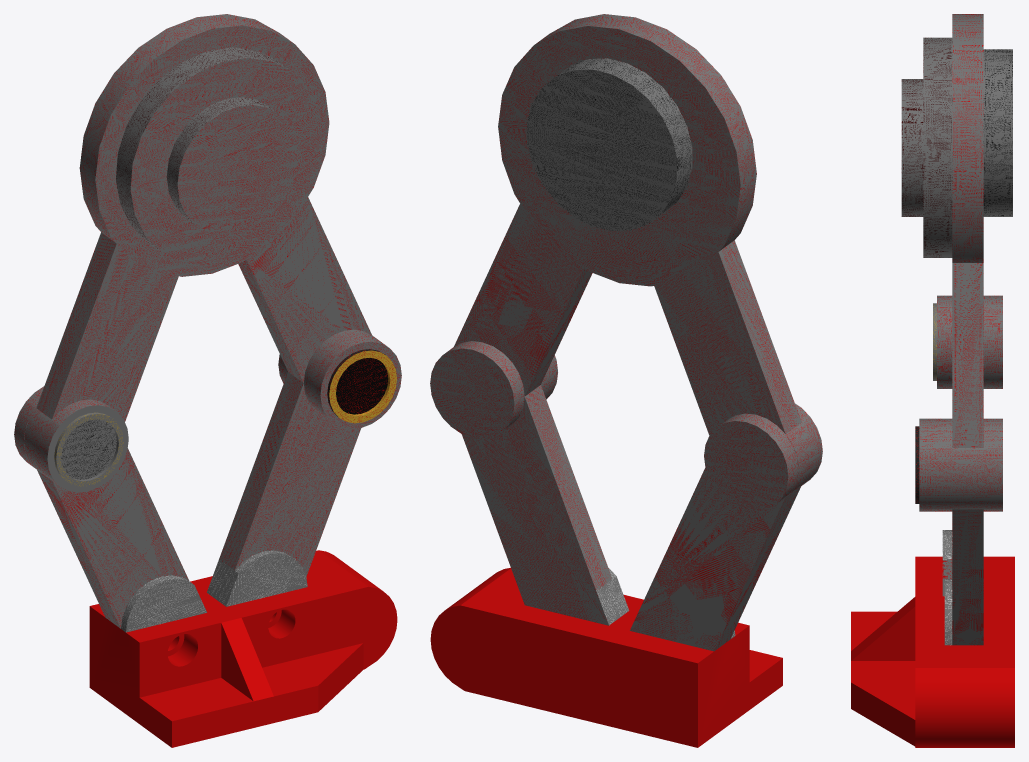
Rendered from Robot Leg.dae.
3 renders of one model, left to right at view 1: azimuth 30°, elevation 25°; view 2: azimuth 150°, elevation 25°; view 3: azimuth 270°, elevation 25°, orthographic. The views are drawn at different scales.
Parts seen in each view (by area): view 1: SketchUp (×15); view 2: SketchUp (×4); view 3: SketchUp (×10).
Part boxes in pixels (left/top/right/bottom): SketchUp (×15): left=14, top=14, right=401, bottom=747; SketchUp (×4): left=430, top=14, right=822, bottom=747; SketchUp (×10): left=851, top=14, right=1014, bottom=747.
Size of the model in its own units: 20.86 by 8.6 by 38.04.
